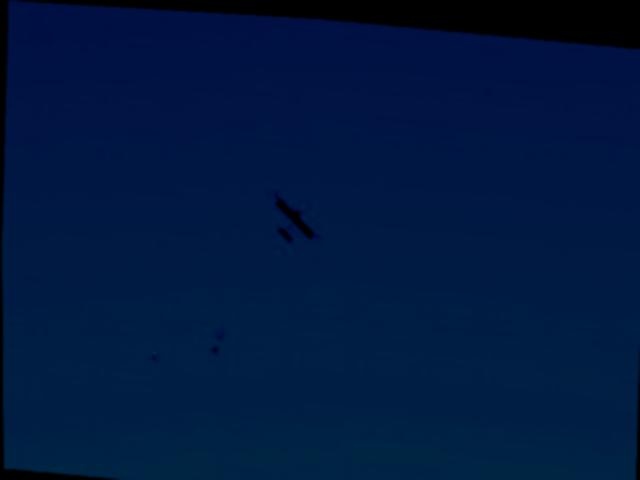uav: (256, 177, 328, 248)
